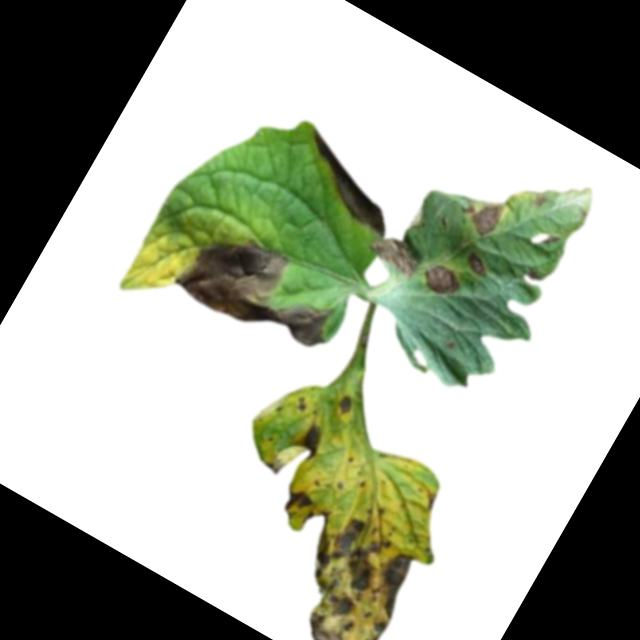Early_blight: (172, 211, 355, 366), (253, 499, 426, 640), (284, 126, 415, 238), (364, 225, 426, 281), (453, 185, 508, 242), (417, 256, 465, 301), (287, 415, 330, 461), (276, 483, 316, 522), (460, 247, 494, 280), (332, 390, 357, 417), (529, 188, 550, 210), (421, 488, 441, 510)
